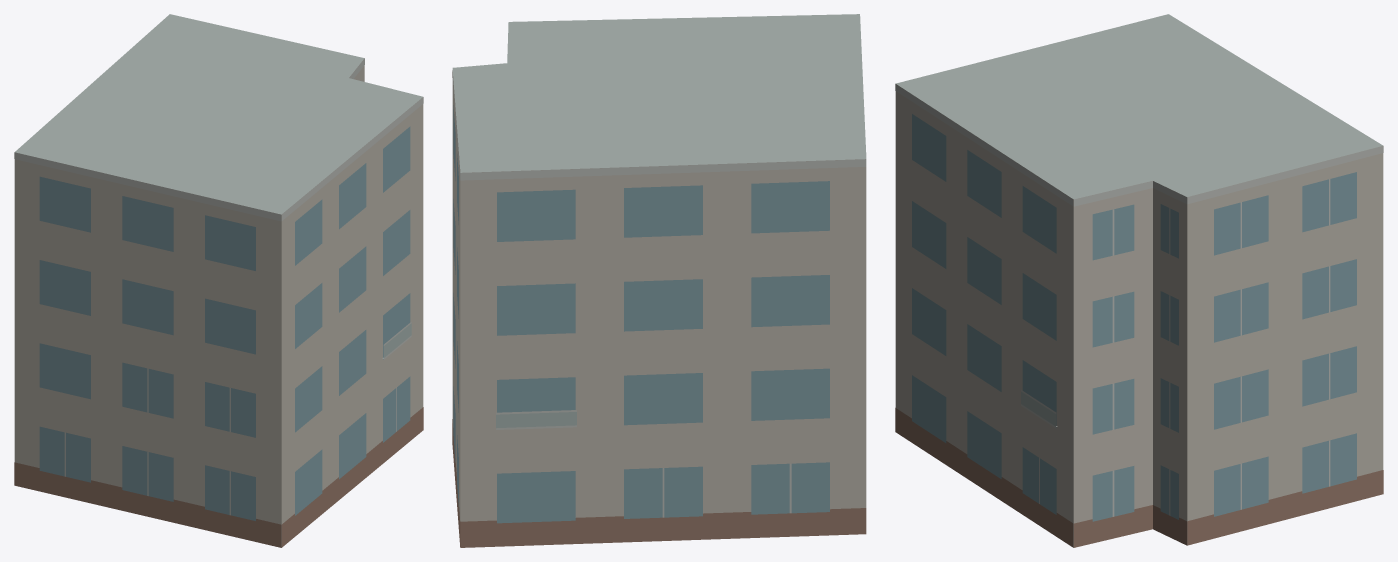
The model's file is survey-upis-32987131.glb.
The picture shows the model from 3 angles, left to right: view 1: azimuth 30°, elevation 25°; view 2: azimuth 150°, elevation 25°; view 3: azimuth 270°, elevation 25°; orthographic projection. The views are drawn at different scales.
Parts seen in each view (by area): view 1: survey-upis-32987131.tmp; view 2: survey-upis-32987131.tmp; view 3: survey-upis-32987131.tmp.
Part boxes in pixels (x1,y1,x2,y2): survey-upis-32987131.tmp: (14, 14, 423, 547); survey-upis-32987131.tmp: (452, 14, 866, 547); survey-upis-32987131.tmp: (895, 14, 1383, 547).
Bounding box in the file's own units: 13.42 × 11.75 × 14.92.
